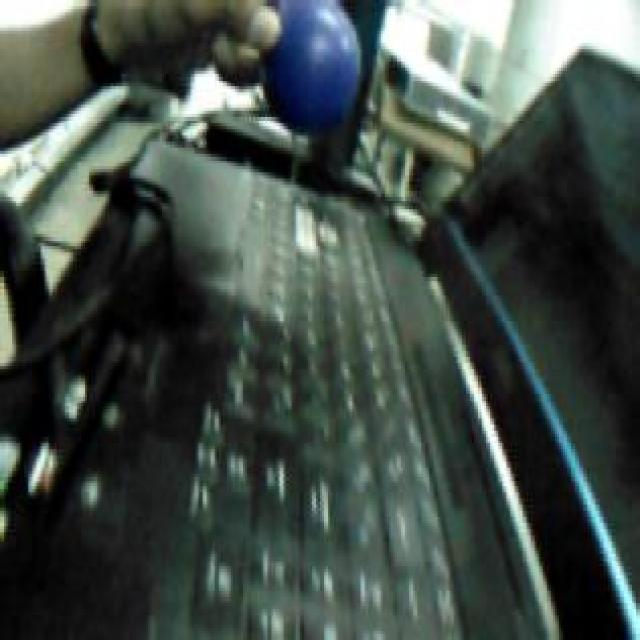BallPurple: (259, 0, 361, 131)
